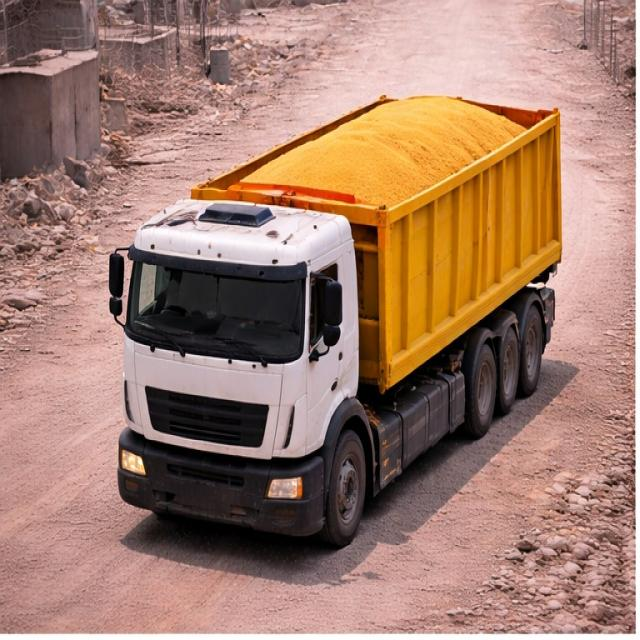Box: (192, 86, 571, 220)
Truck: (100, 42, 589, 549)
